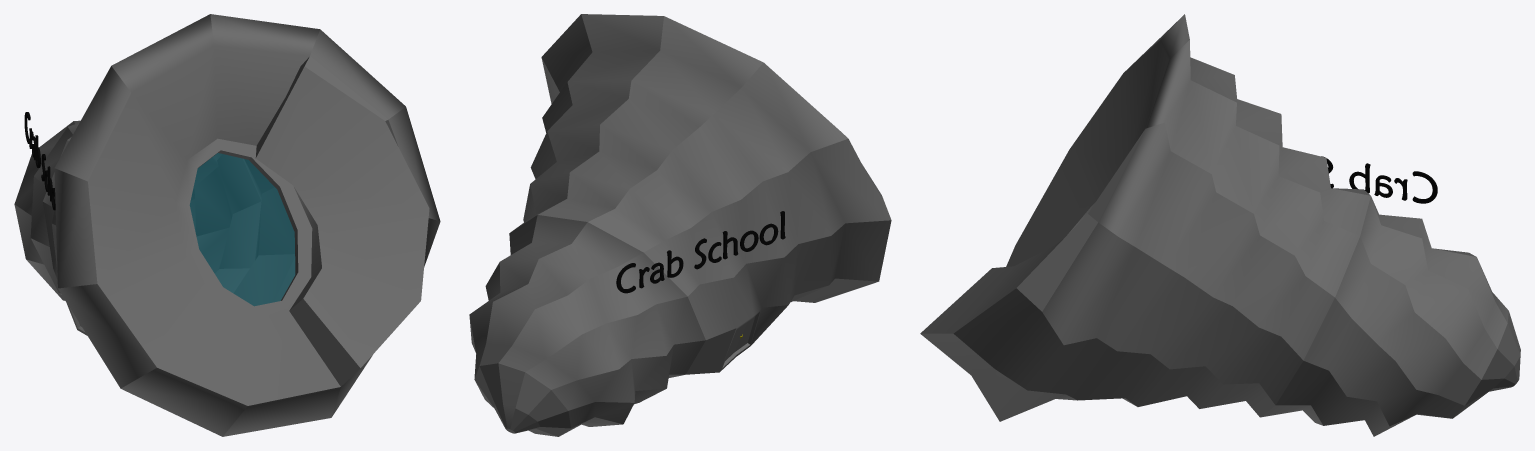
File: Crab_school.dae
3 renders of one model, left to right at view 1: azimuth 30°, elevation 25°; view 2: azimuth 150°, elevation 25°; view 3: azimuth 270°, elevation 25°, orthographic. The views are drawn at different scales.
Visible parts, largest first — view 1: typeMesh2; view 2: typeMesh2; view 3: typeMesh2.
Part boxes in pixels (left/top/right/bottom): typeMesh2: left=14, top=14, right=440, bottom=436; typeMesh2: left=469, top=14, right=891, bottom=436; typeMesh2: left=920, top=14, right=1520, bottom=436.
Size of the model in its own units: 0.0851 by 0.0806 by 0.1145.
